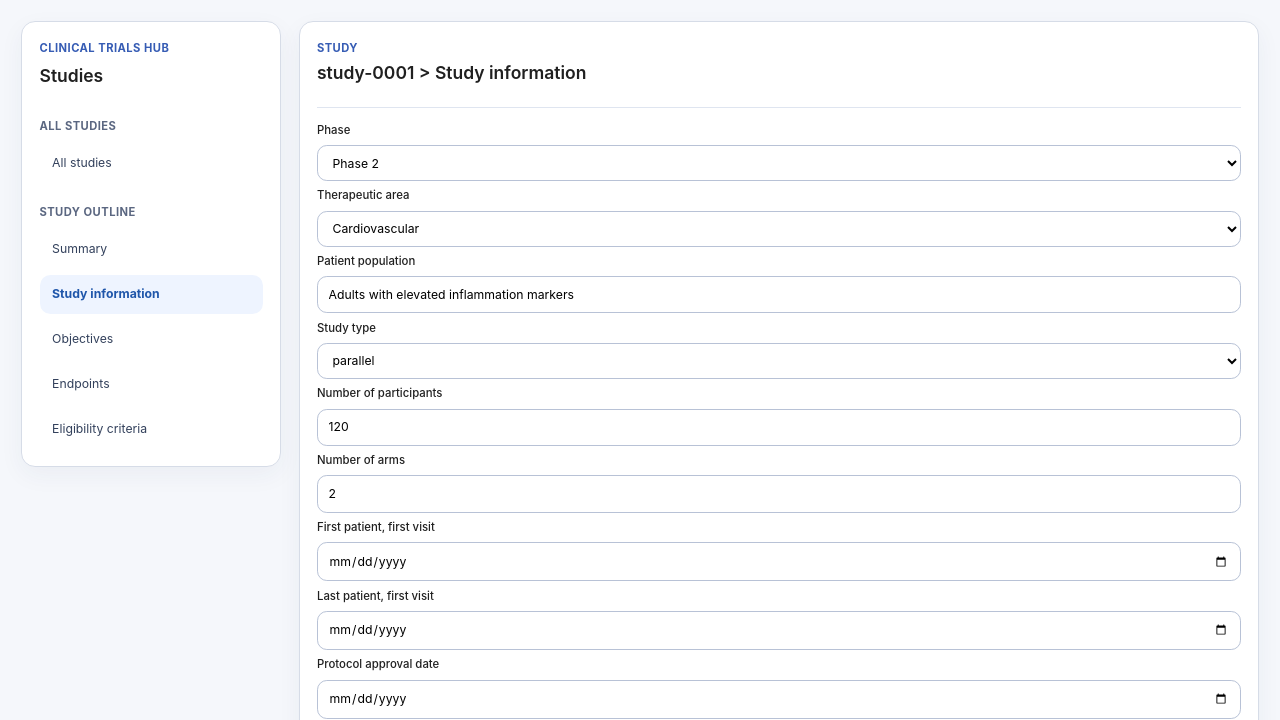
Test: Edit study summary › blocks Save with inline errors when the study information is invalid
The image size is (1280, 720).
Select "Select a phase" in the dropdown labelled "Phase" at (779, 163), box [317,145,1240,181]
(page scrolled)
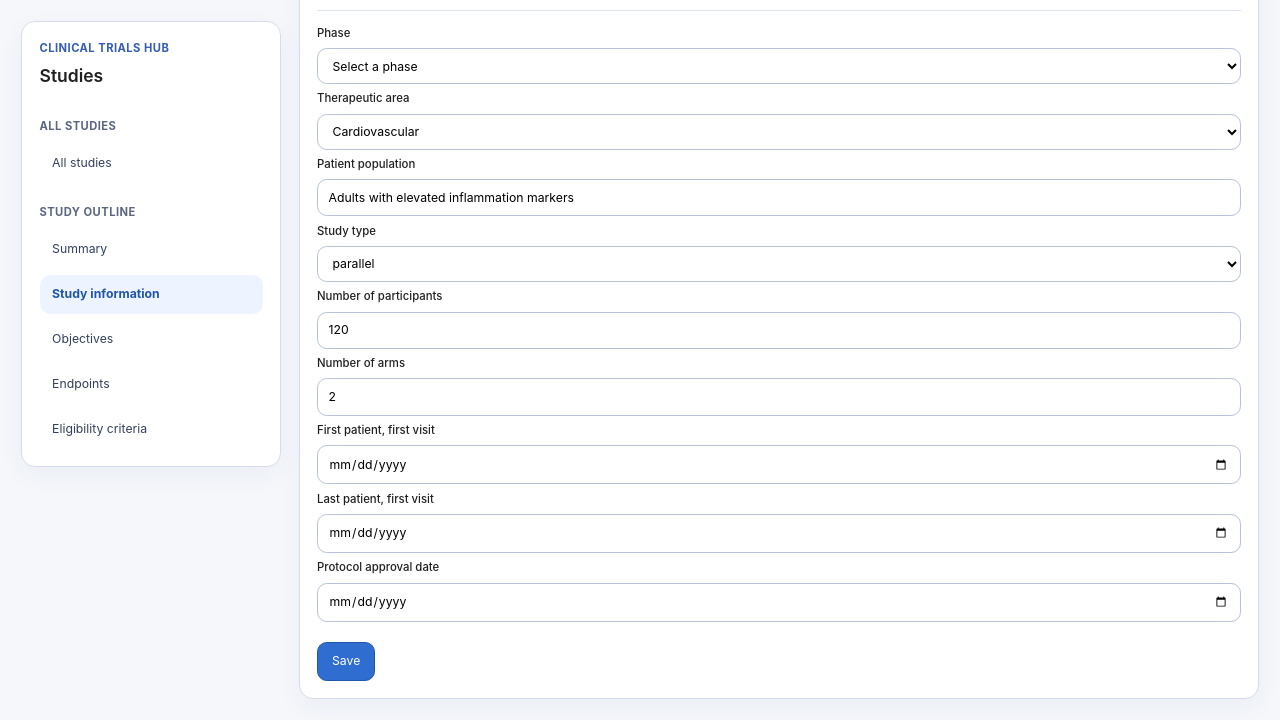
Click the button with test id "section-save-button" at (346, 662), box [317,642,375,681]
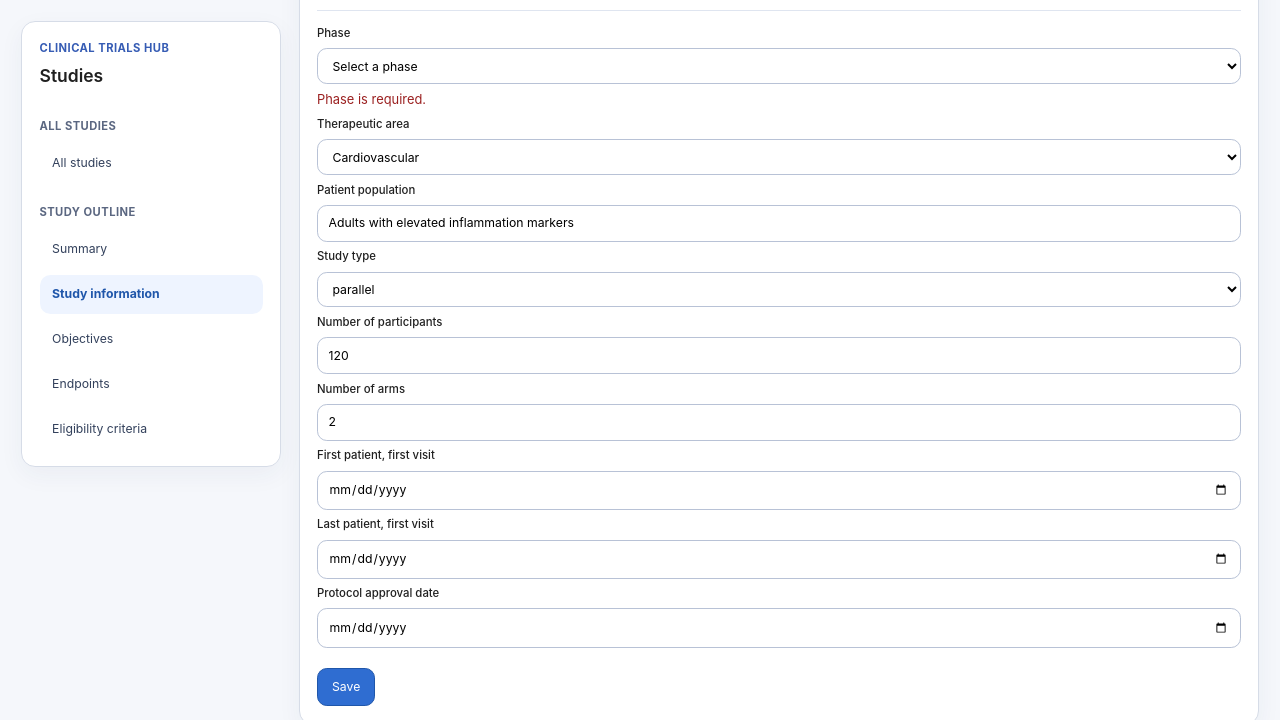
Check: the text "Phase is required." is shown, box [317,92,426,108]
